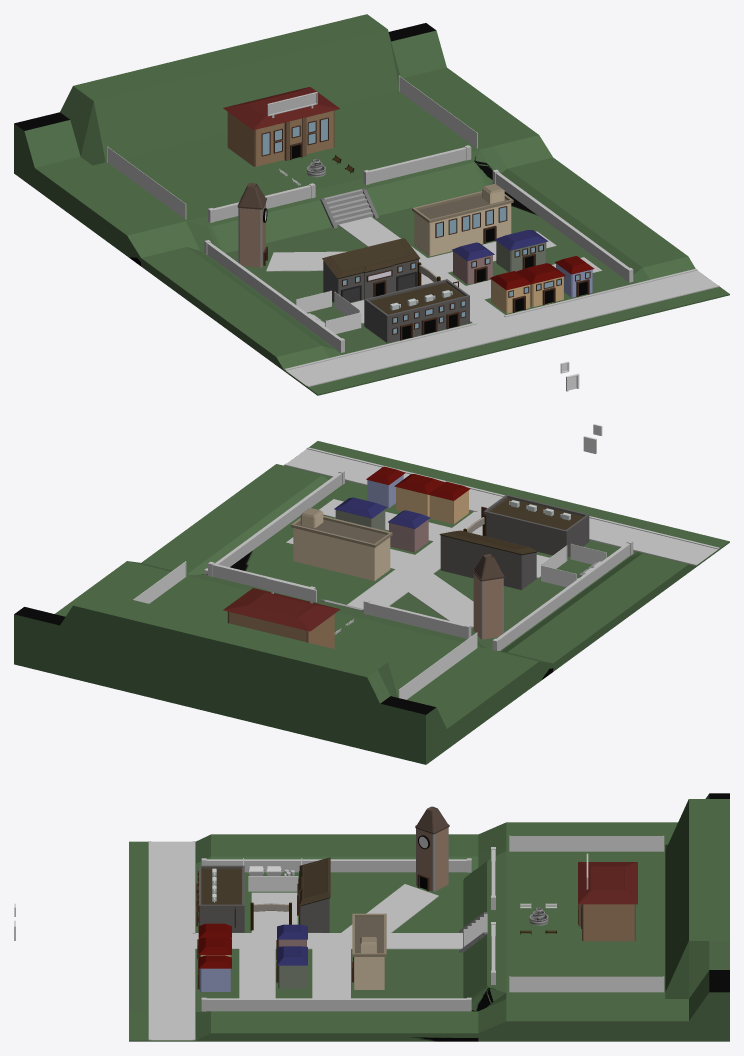
File: DetectiveSimulatorMap.fbx
The picture shows the model from 3 angles, top to bottom: view 1: azimuth 30°, elevation 25°; view 2: azimuth 150°, elevation 25°; view 3: azimuth 270°, elevation 25°; orthographic projection.
Visible parts, largest first — view 1: Cube, Cube.015, Cube.003, Cube.002, Cube.009, Cube.005, Cube.059, Cube.026, Cube.017, Cube.006, Cube.023, Cube.049 (+8 smaller); view 2: Cube, Cube.015, Cube.002, Cube.009, Cube.003, Cube.005, Cube.059, Cube.017, Cube.026, Cube.025, Cube.008, Cube.004 (+7 smaller); view 3: Cube, Cube.015, Cube.003, Cube.026, Cube.009, Cube.027, Cube.002, Cube.059, Cube.024, Cube.017, Cube.005, Cube.006 (+7 smaller).
Boxes of the visible parts, box(x1,y1,x2,y2) form: Cube: box(14, 14, 729, 395); Cube.015: box(266, 217, 719, 387); Cube.003: box(223, 87, 339, 166); Cube.002: box(412, 184, 513, 256); Cube.009: box(364, 279, 469, 342); Cube.005: box(322, 238, 420, 302); Cube.059: box(237, 183, 267, 267); Cube.026: box(492, 169, 633, 282); Cube.017: box(204, 240, 344, 352); Cube.006: box(495, 230, 548, 272); Cube.023: box(363, 145, 471, 184); Cube.049: box(320, 188, 378, 228); Cube: box(14, 441, 729, 764); Cube.015: box(284, 447, 719, 627); Cube.002: box(291, 508, 392, 581); Cube.009: box(483, 494, 589, 557); Cube.003: box(223, 588, 339, 648); Cube.005: box(439, 530, 537, 589); Cube.059: box(473, 554, 504, 639); Cube.017: box(492, 540, 633, 650); Cube.026: box(204, 470, 344, 574); Cube.025: box(363, 599, 471, 638); Cube.008: box(428, 481, 470, 524); Cube.004: box(388, 510, 430, 552); Cube: box(129, 793, 729, 1041); Cube.015: box(148, 841, 462, 1040); Cube.003: box(578, 862, 637, 941); Cube.026: box(201, 997, 471, 1011); Cube.009: box(196, 865, 244, 932); Cube.027: box(509, 976, 664, 992); Cube.002: box(352, 913, 386, 989); Cube.059: box(415, 806, 449, 891); Cube.024: box(509, 835, 664, 851); Cube.017: box(201, 858, 471, 872); Cube.005: box(297, 857, 330, 932); Cube.006: box(276, 946, 307, 988).
Bounding box in the file's own units: 35286 × 6419 × 53660.
